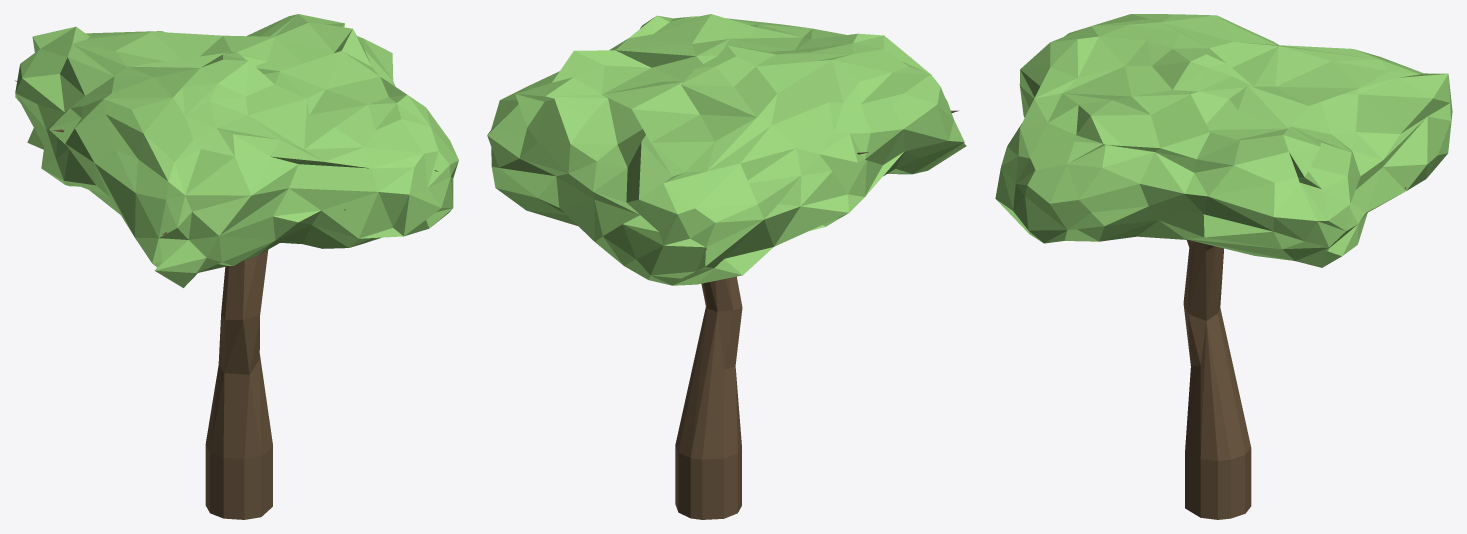
File: Tree3.1.LOD.fbx
The picture shows the model from 3 angles, left to right: view 1: azimuth 30°, elevation 25°; view 2: azimuth 150°, elevation 25°; view 3: azimuth 270°, elevation 25°; orthographic projection. The views are drawn at different scales.
Visible parts, largest first — view 1: Tree3.1_LOD0; view 2: Tree3.1_LOD0; view 3: Tree3.1_LOD0.
Part boxes in pixels (x1=…): Tree3.1_LOD0: x1=15, y1=14, x2=458, y2=519; Tree3.1_LOD0: x1=487, y1=14, x2=966, y2=519; Tree3.1_LOD0: x1=995, y1=14, x2=1452, y2=519.
Size of what is drawn, in the model's own units: 1403 by 1714 by 1607.
Materials: 1 (1 with a texture image).
